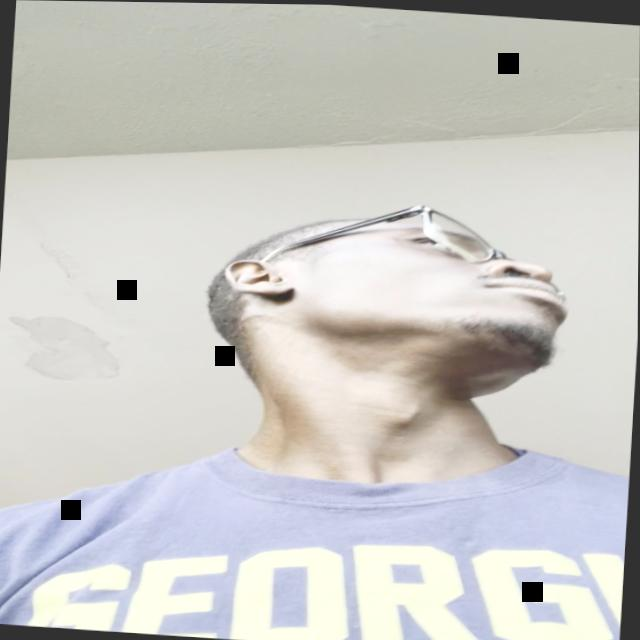NO-Mask: (267, 198, 579, 380)
